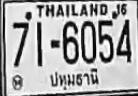0: (80, 20, 96, 63)
1: (36, 22, 42, 66)
4: (116, 19, 131, 62)
5: (98, 19, 113, 62)
6: (62, 20, 78, 64)
7: (12, 22, 28, 66)
PTE: (45, 67, 99, 88)
